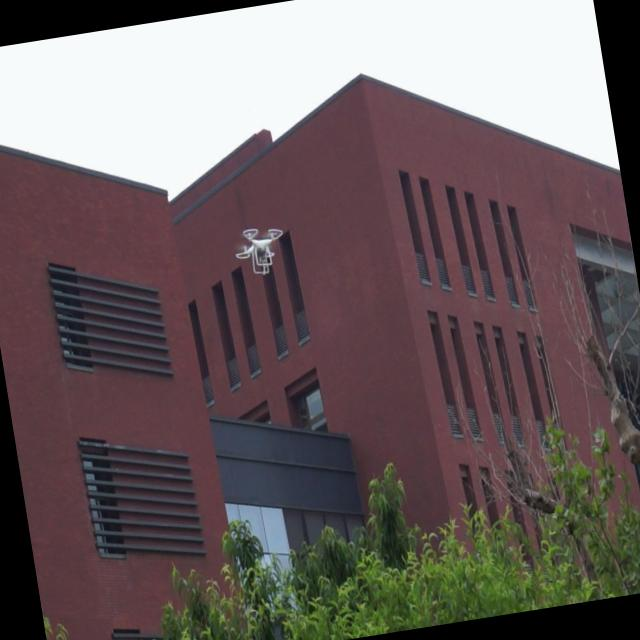drone: (230, 220, 291, 283)
